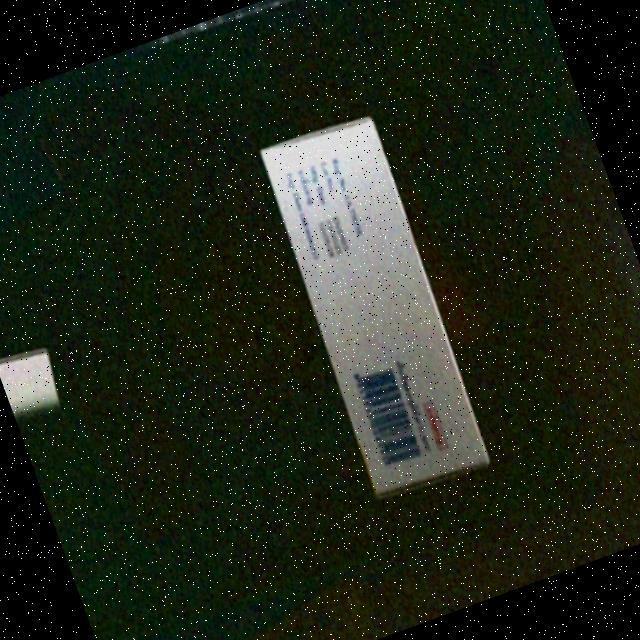sefloc: (252, 114, 493, 505)
